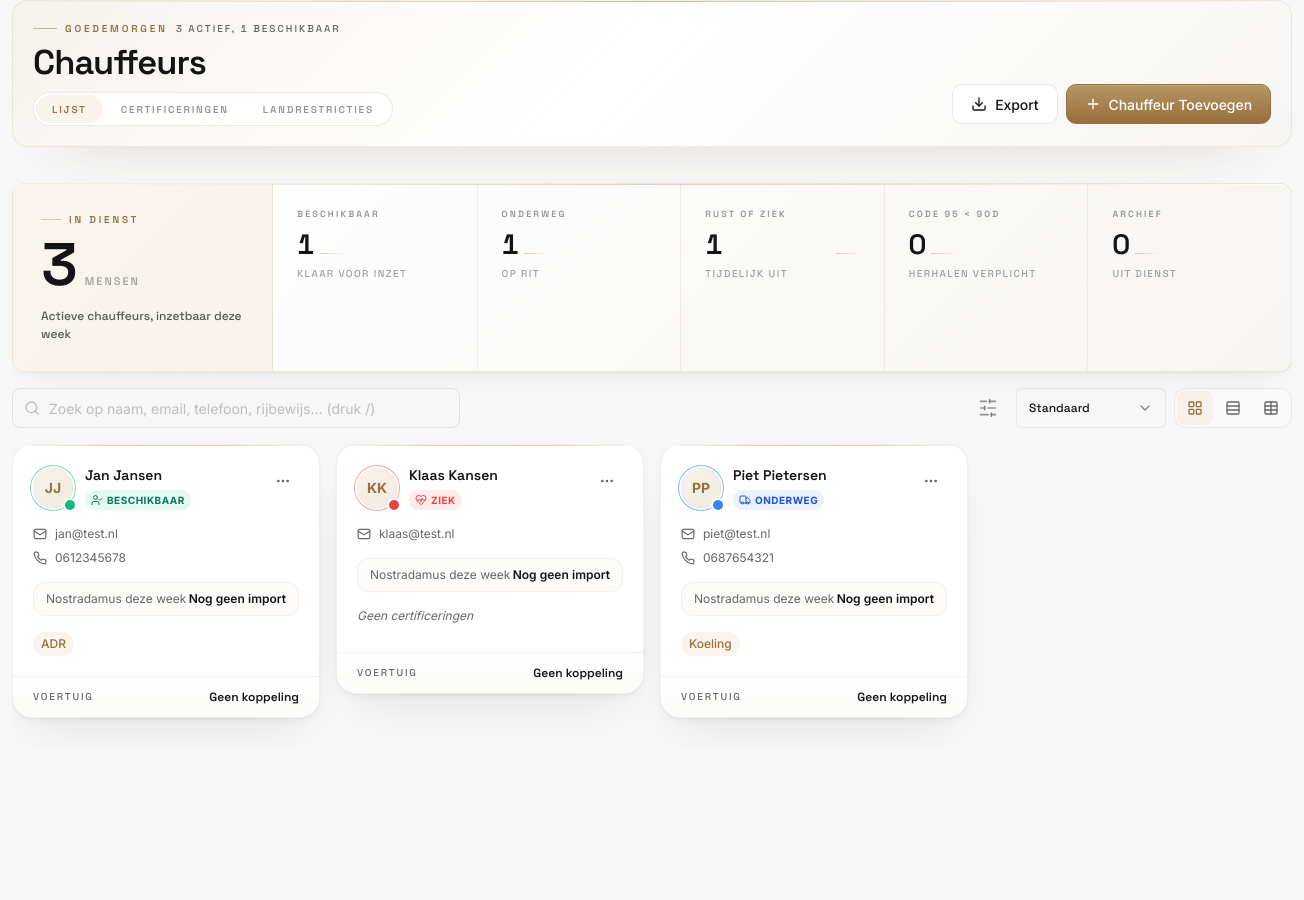
Scenario: Chauffeurs › filters drivers by email search
This screenshot has width=1304, height=900.
In the field with placeholder "Zoek op naam, email, telefoon, rijbewijs... (druk /)": (236, 408) [12,388,460,428], type "piet@test.nl"
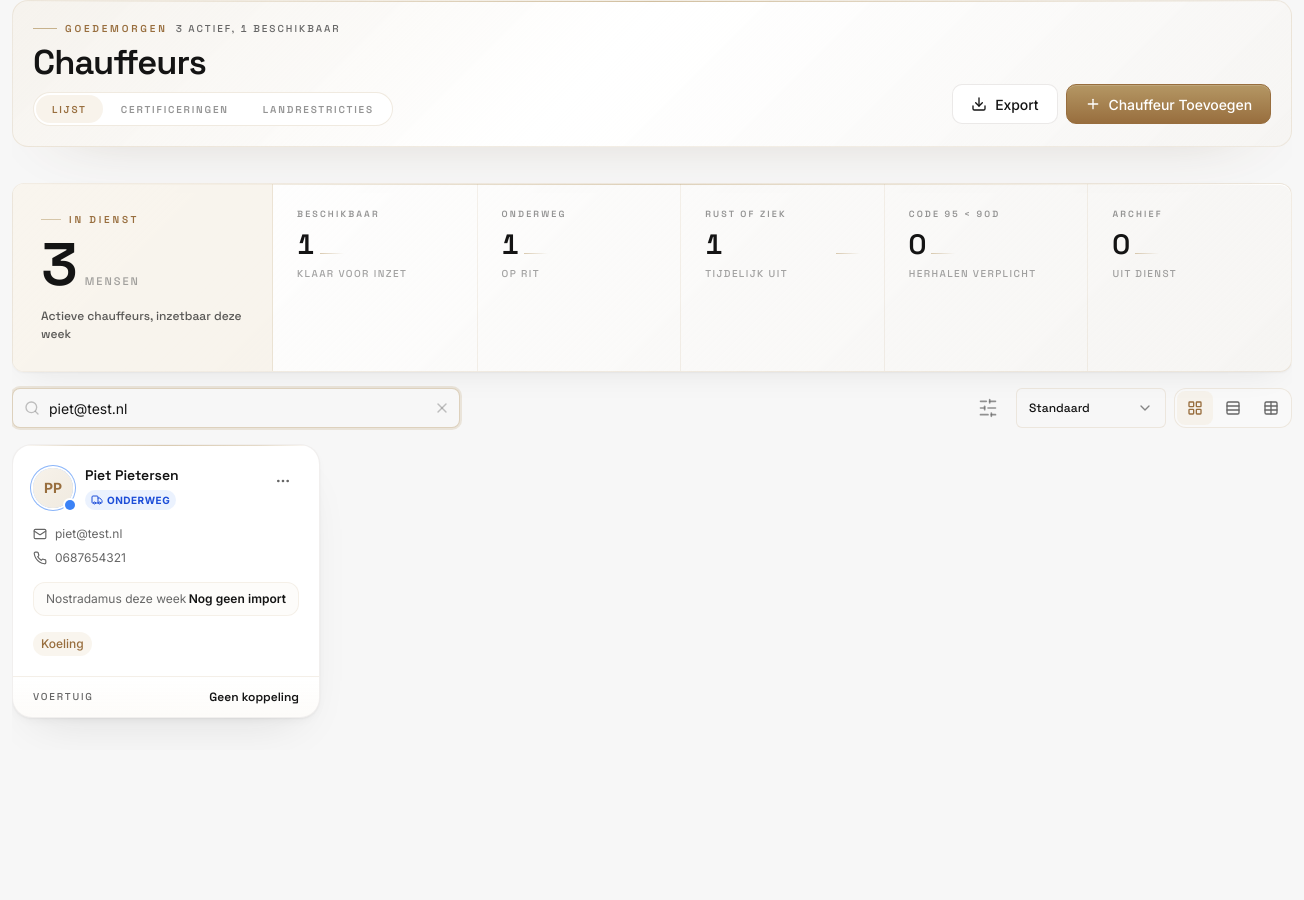
Expected: the heading "Piet Pietersen" is shown, [85,465,179,486]
Expected: the heading "Jan Jansen" is gone
